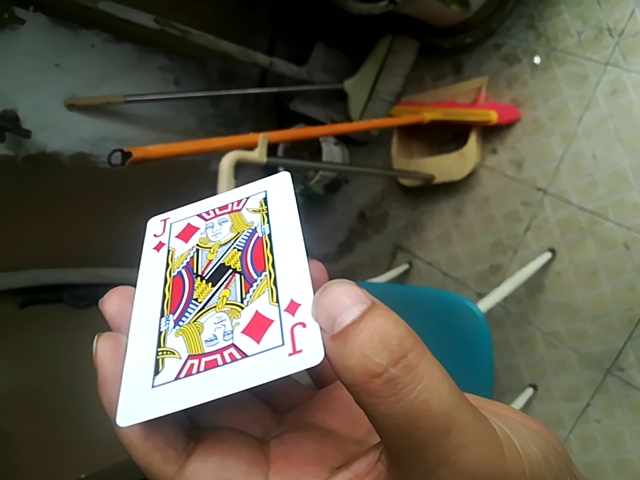fk j: (119, 170, 316, 429)
